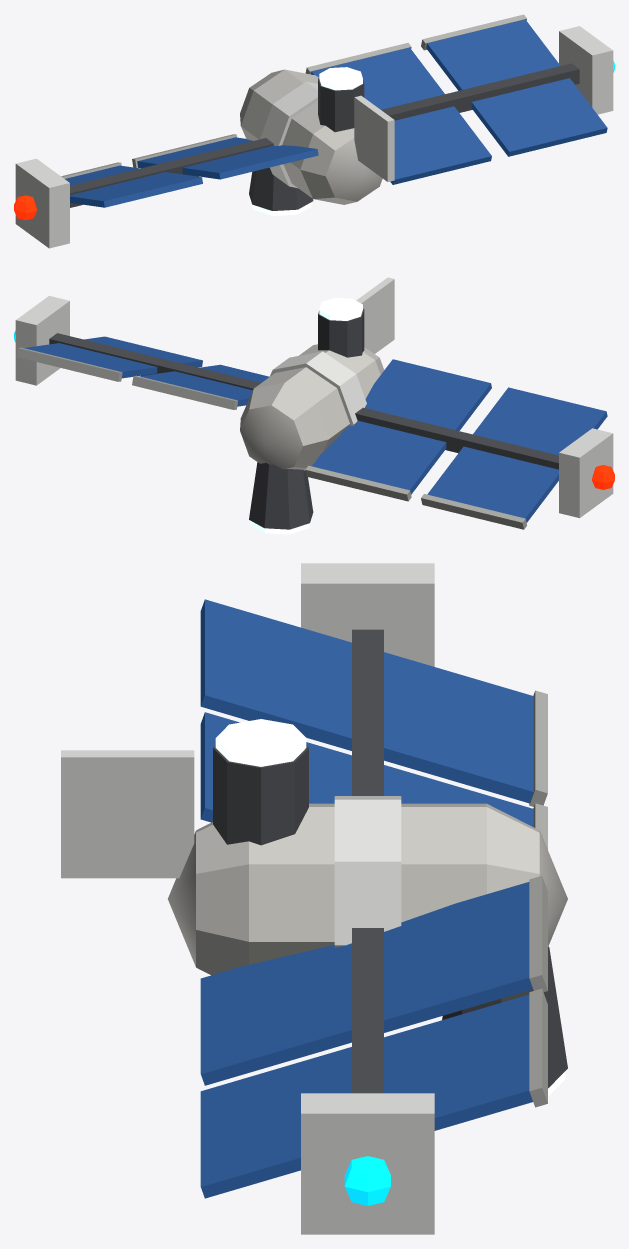
File: satellite_c.glb
3 renders of one model, top to bottom at view 1: azimuth 30°, elevation 25°; view 2: azimuth 150°, elevation 25°; view 3: azimuth 270°, elevation 25°, orthographic. The views are drawn at different scales.
Parts seen in each view (by area): view 1: sat_c; view 2: sat_c; view 3: sat_c.
Part boxes in pixels (x1,y1,x2,y2): sat_c: (14,14,614,248); sat_c: (14,277,614,534); sat_c: (61,563,567,1234).
Bounding box in the file's own units: 2 × 0.5423 × 0.7308.
